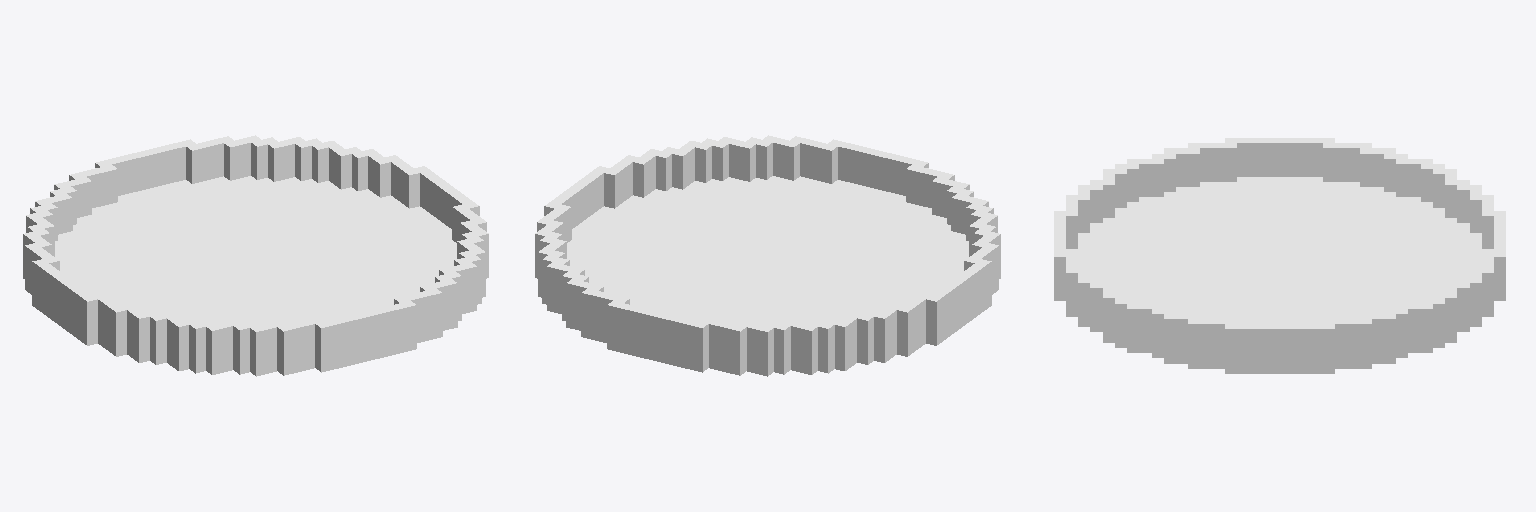
The model's file is arena.obj.
3 renders of one model, left to right at view 1: azimuth 30°, elevation 25°; view 2: azimuth 150°, elevation 25°; view 3: azimuth 270°, elevation 25°, orthographic.
Parts seen in each view (by area): view 1: object 1; view 2: object 1; view 3: object 1.
Part boxes in pixels (x1,y1,x2,y2): object 1: (23,135,488,376); object 1: (535,135,1000,376); object 1: (1054,138,1505,373).
Bounding box in the file's own units: 3.7 × 0.4 × 3.7.